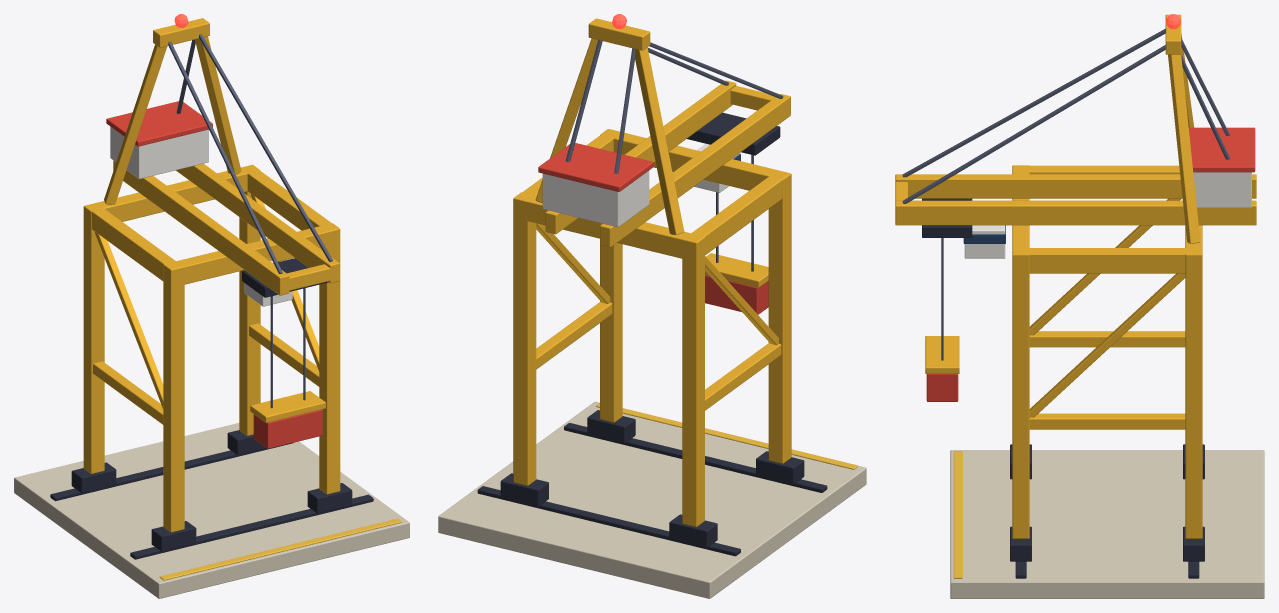
File: crane.glb
3 views of the same model, side by side, from view 1: azimuth 30°, elevation 25°; view 2: azimuth 150°, elevation 25°; view 3: azimuth 270°, elevation 25° (orthographic). The views are drawn at different scales.
Parts seen in each view (by area): view 1: Crane; view 2: Crane; view 3: Crane.
Part boxes in pixels (bbox=[...]): Crane: bbox=[14, 14, 409, 598]; Crane: bbox=[438, 14, 866, 598]; Crane: bbox=[895, 14, 1264, 598].
Size of the model in its own units: 2 by 3.64 by 2.35.
